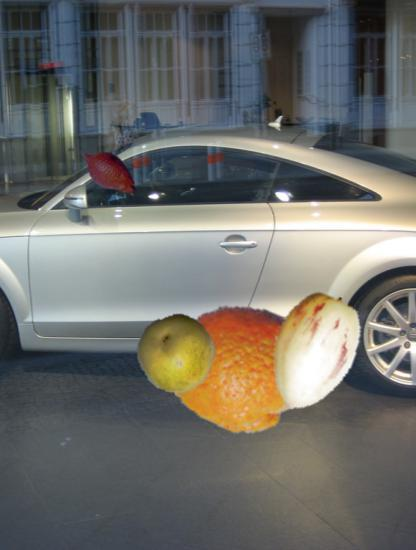Mandarine: (170, 297, 313, 440)
Maracuja: (137, 313, 216, 392)
Pepino: (252, 291, 375, 414)
Salak: (77, 139, 141, 203)
